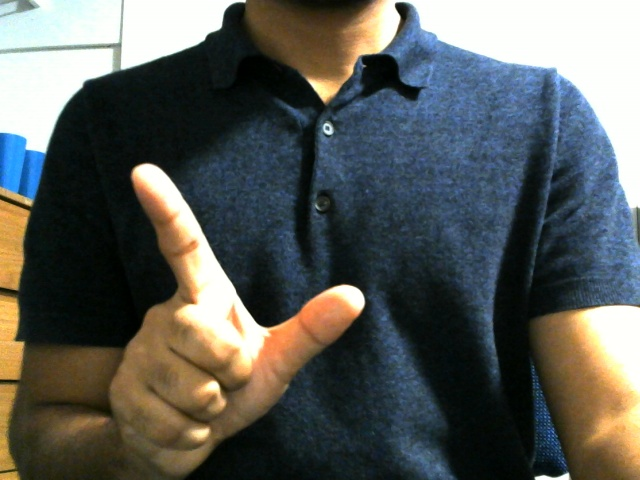L: (105, 161, 372, 465)
